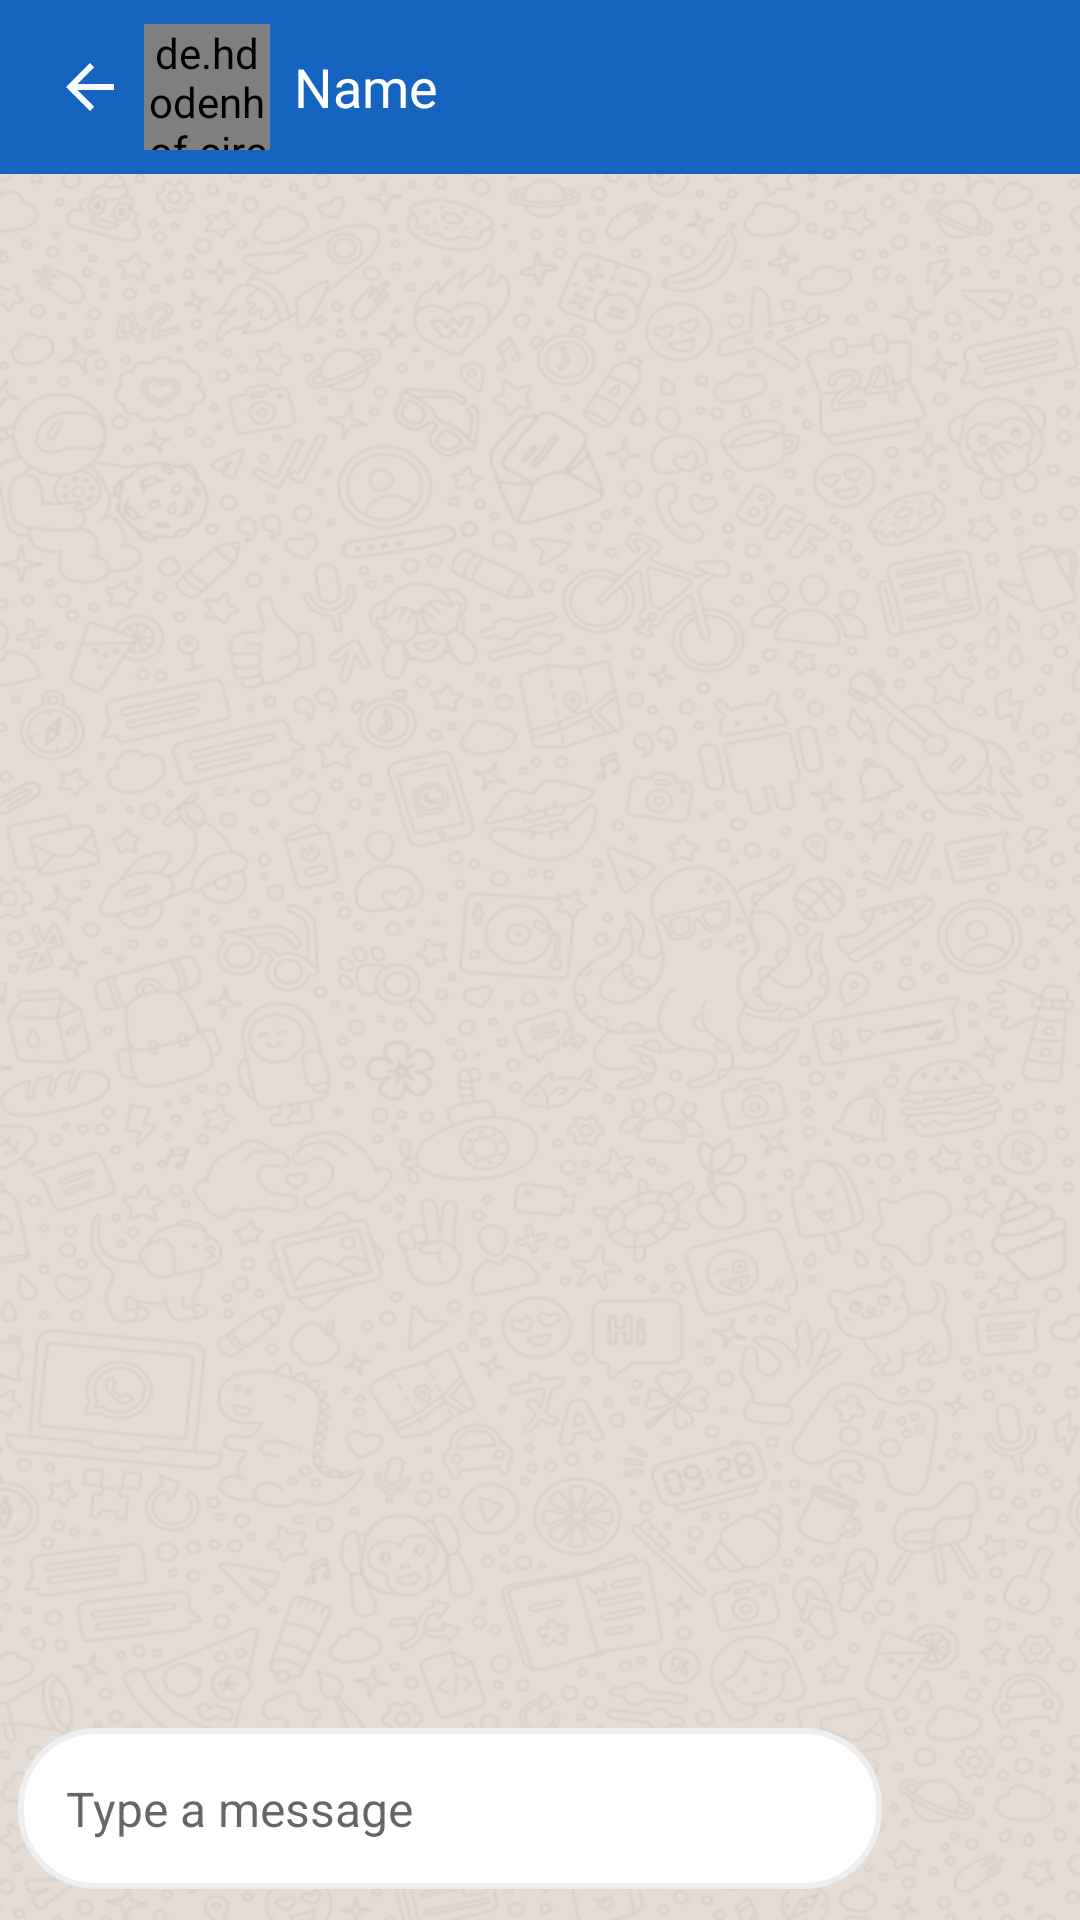

Locate icon controls on the screen. Image size 1080 × 1920, boxes as [x1,y1,x2,y2].
arrow back: [66,63,114,111]
